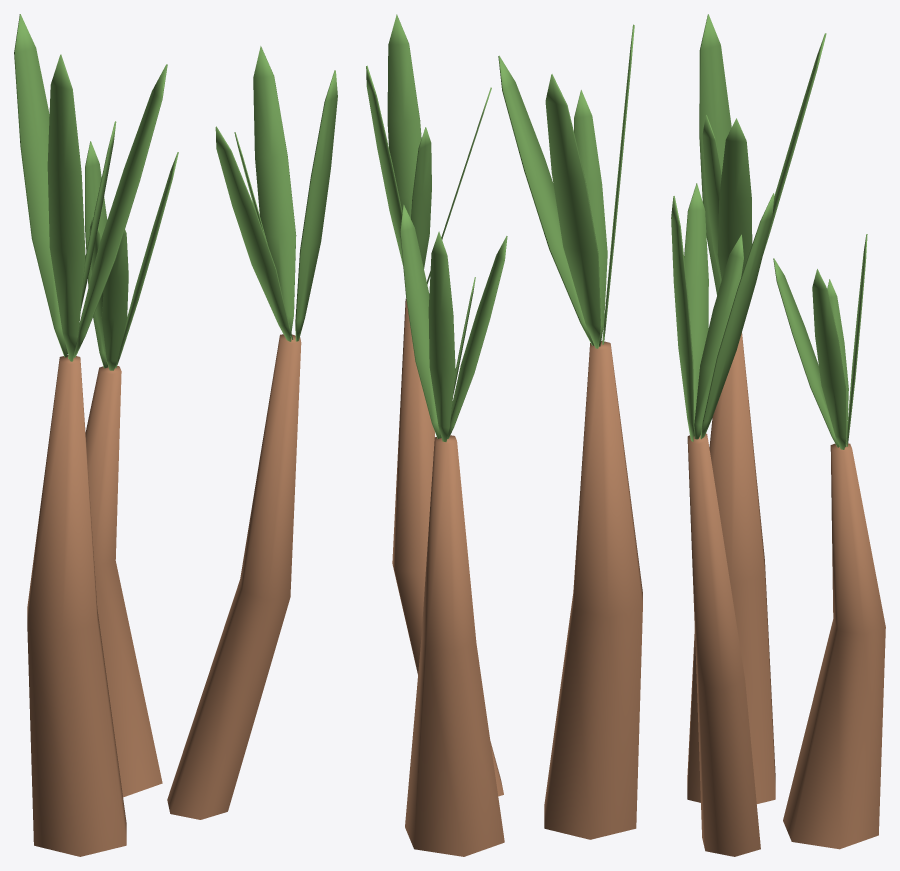
Rendered from shootyplant1.fbx.
3 views of the same model, side by side, from view 1: azimuth 30°, elevation 25°; view 2: azimuth 150°, elevation 25°; view 3: azimuth 270°, elevation 25° (orthographic). The views are drawn at different scales.
Visible parts, largest first — view 1: shootyplant1; view 2: shootyplant1; view 3: shootyplant1.
Part boxes in pixels (x1,y1,x2,y2): shootyplant1: (14,14,337,856); shootyplant1: (366,14,642,856); shootyplant1: (671,14,885,856).
Bounding box in the file's own units: 0.4379 × 1.18 × 0.3013.
